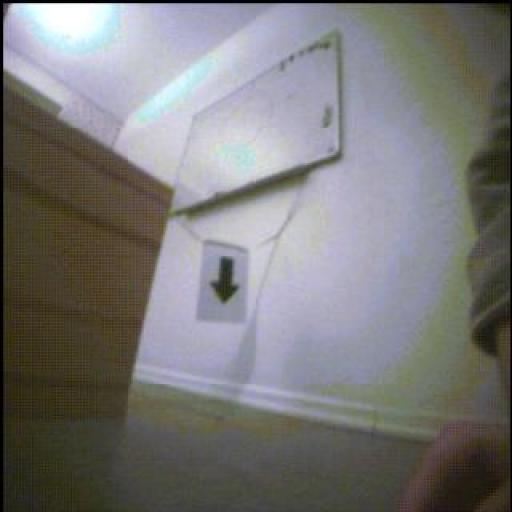Arrow: (213, 259, 240, 304)
